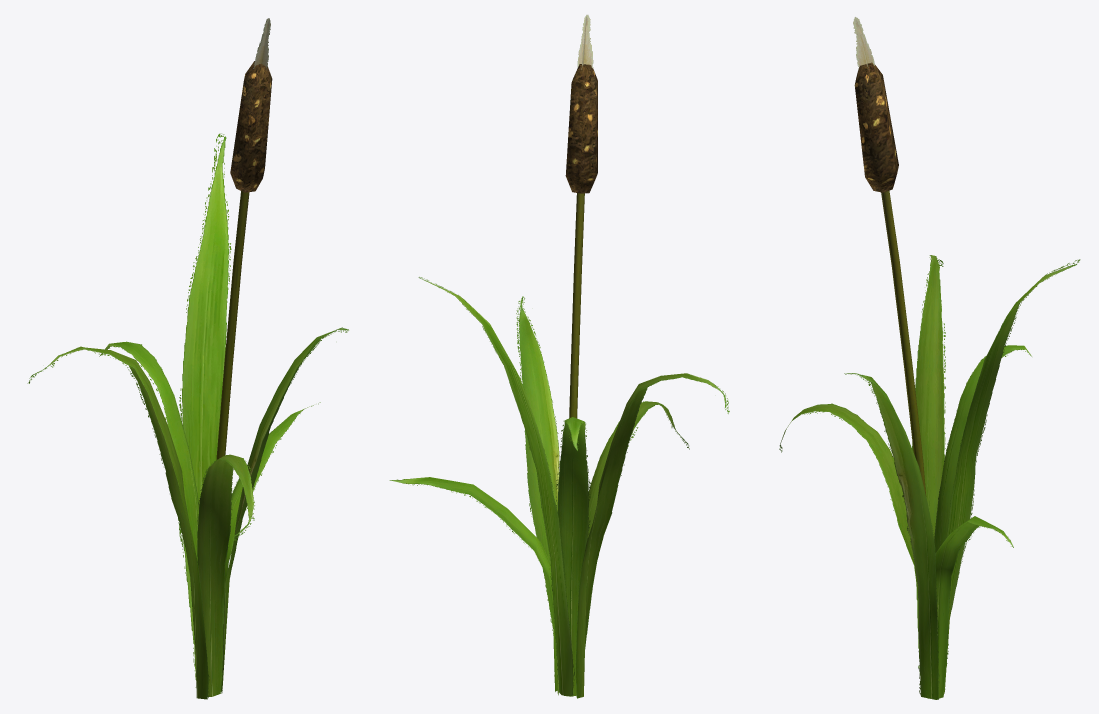
The model's file is reed03.obj.
3 renders of one model, left to right at view 1: azimuth 30°, elevation 25°; view 2: azimuth 150°, elevation 25°; view 3: azimuth 270°, elevation 25°, orthographic. The views are drawn at different scales.
Parts seen in each view (by area): view 1: reed03; view 2: reed03; view 3: reed03.
Part boxes in pixels (bbox=[...]): reed03: bbox=[27, 18, 348, 699]; reed03: bbox=[389, 14, 729, 698]; reed03: bbox=[779, 17, 1080, 699].
Size of the model in its own units: 79.28 by 155 by 62.56.
